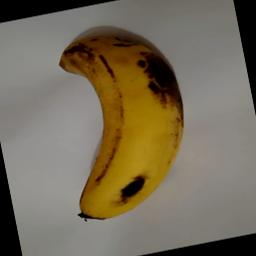Banana Unripe: (50, 19, 200, 214)
